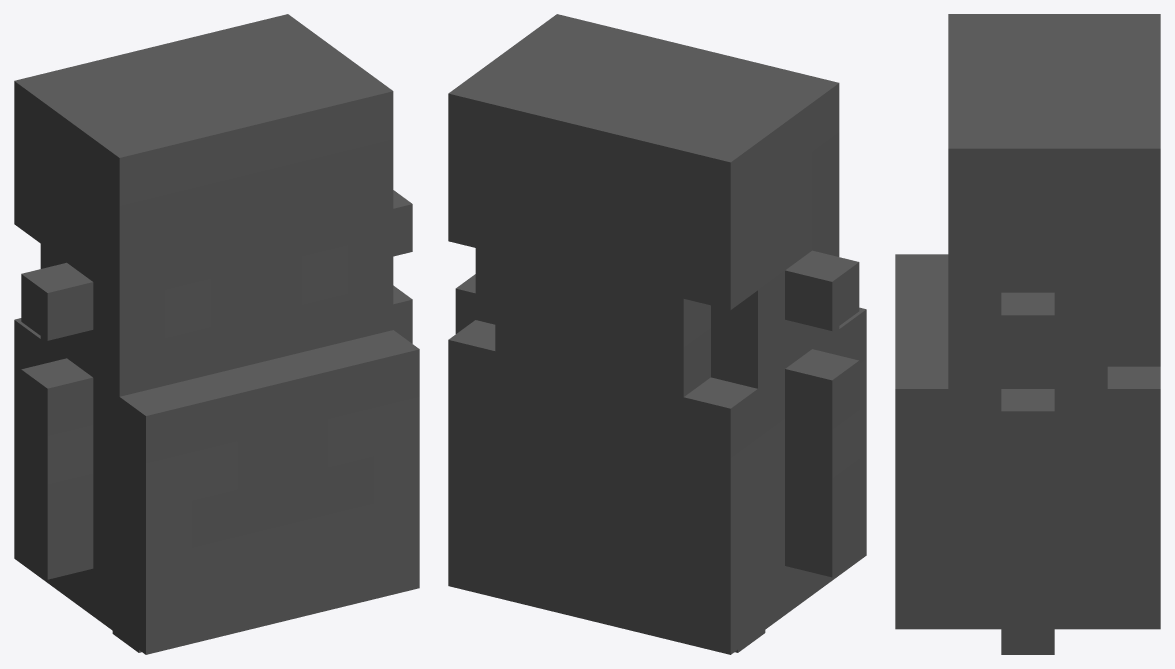
The model's file is chr_sports1.obj.
3 views of the same model, side by side, from view 1: azimuth 30°, elevation 25°; view 2: azimuth 150°, elevation 25°; view 3: azimuth 270°, elevation 25° (orthographic). The views are drawn at different scales.
Size of the model in its own units: 8 by 11 by 5.
